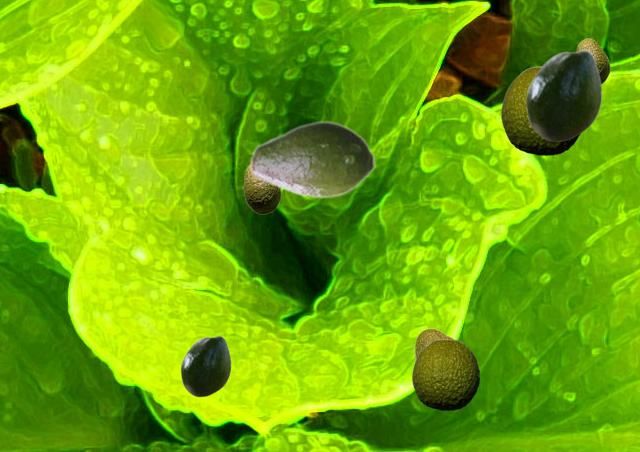avocado: (249, 120, 375, 198), (525, 49, 601, 141), (501, 66, 580, 154), (412, 339, 478, 409), (180, 335, 230, 396), (242, 165, 280, 213), (576, 38, 609, 84), (414, 328, 454, 359)
